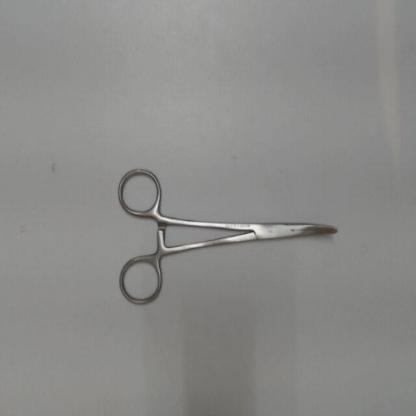Crile Artery Forceps: (114, 158, 344, 306)
